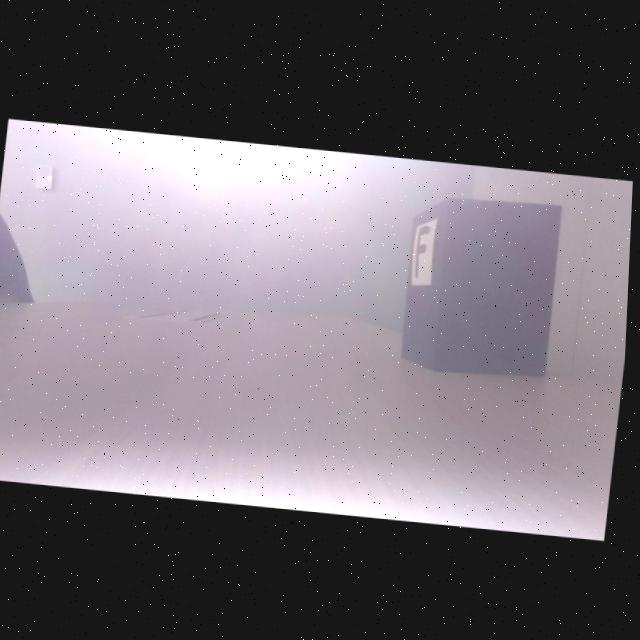F: (417, 224, 432, 276)
